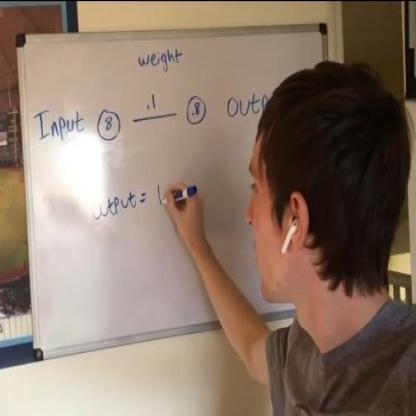Handwritten text: (83, 187, 139, 232), (31, 105, 85, 150), (224, 82, 268, 132), (136, 42, 186, 83)
Lecturer: (242, 57, 416, 416)
Whiteboard: (9, 11, 351, 358)
